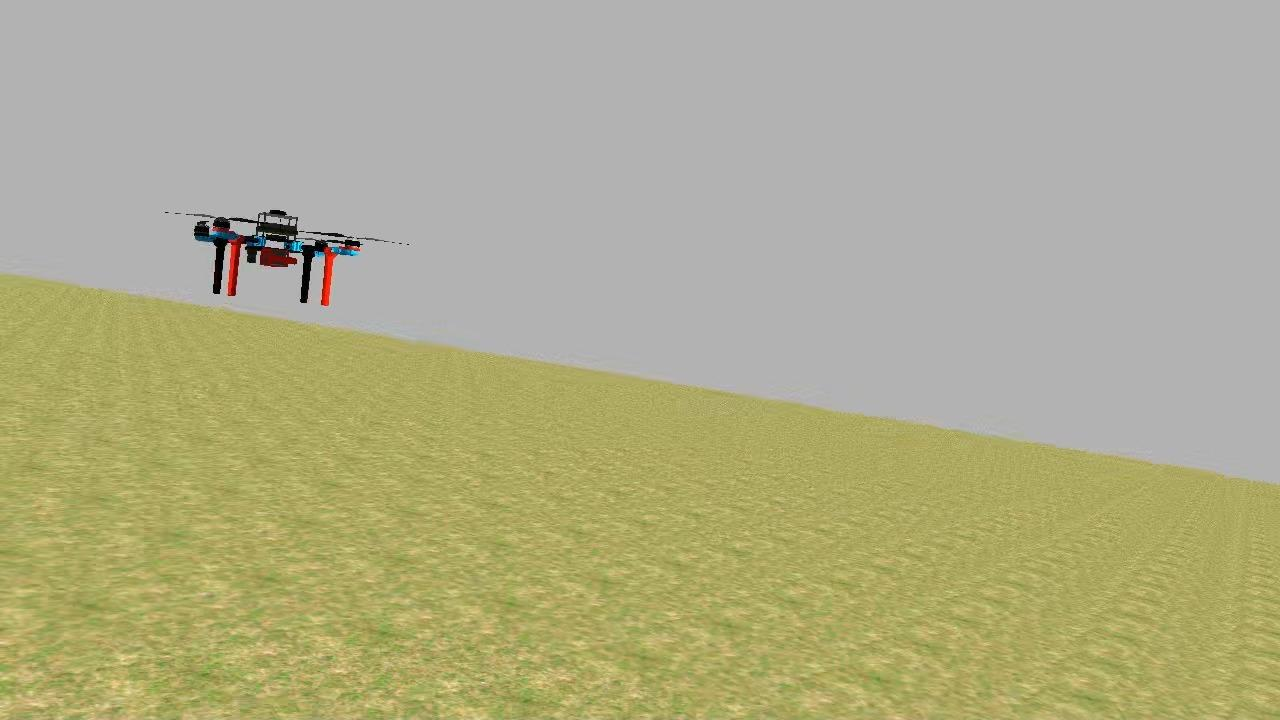UAV: (188, 198, 368, 306)
